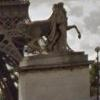Statue: (15, 4, 86, 52)
